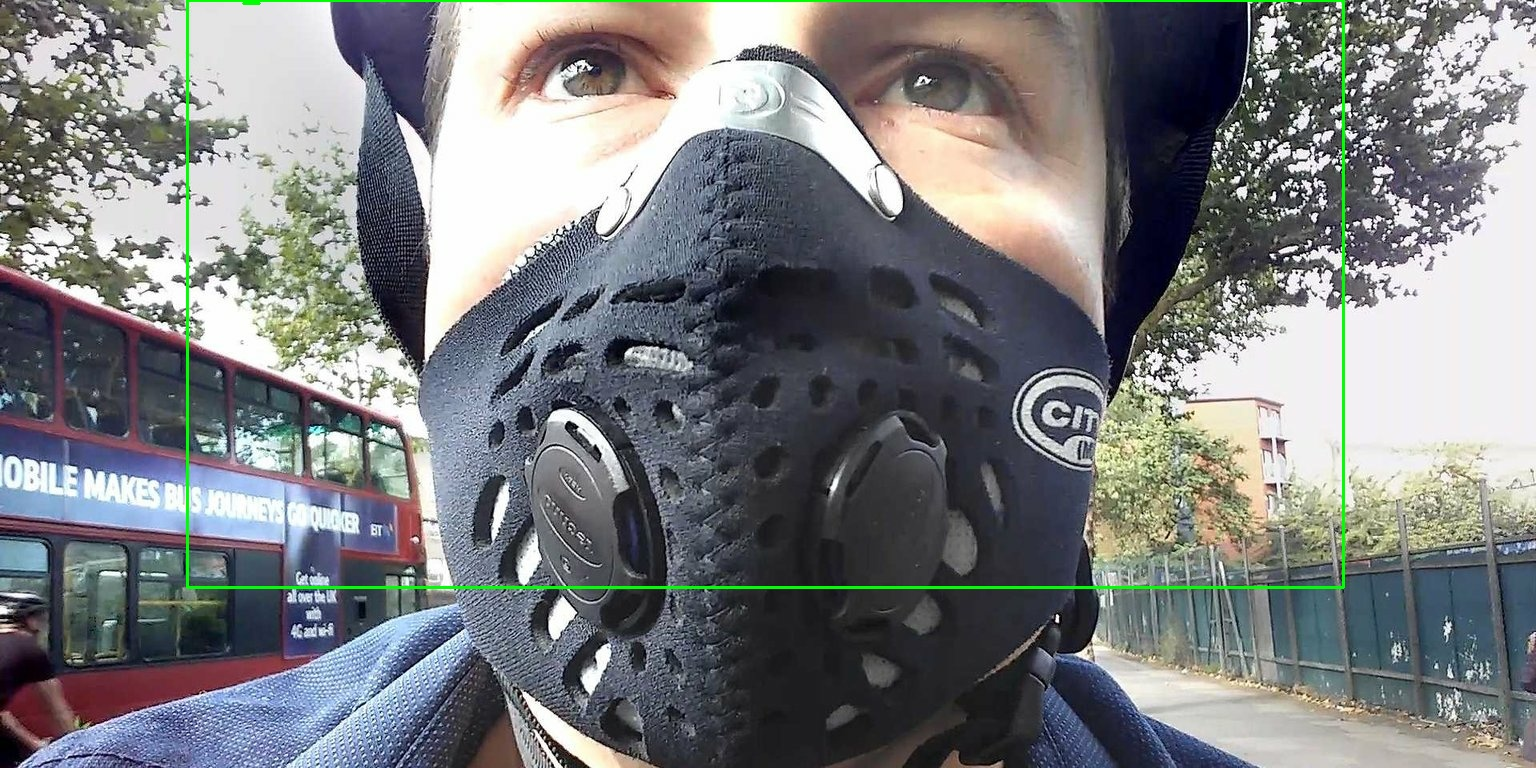with_mask: (400, 2, 1154, 768)
